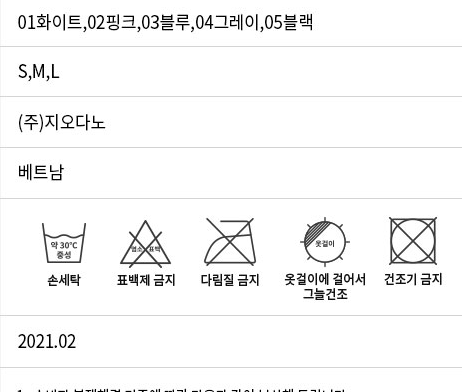KR_hand_wash_30_neutral: (37, 214, 91, 270)
KR_hang_dry_in_shade: (300, 216, 356, 269)
KR_no_chlorine_bleach: (113, 214, 177, 271)
KR_no_iron: (197, 216, 263, 271)
KR_no_tumble_dry: (382, 211, 442, 270)
